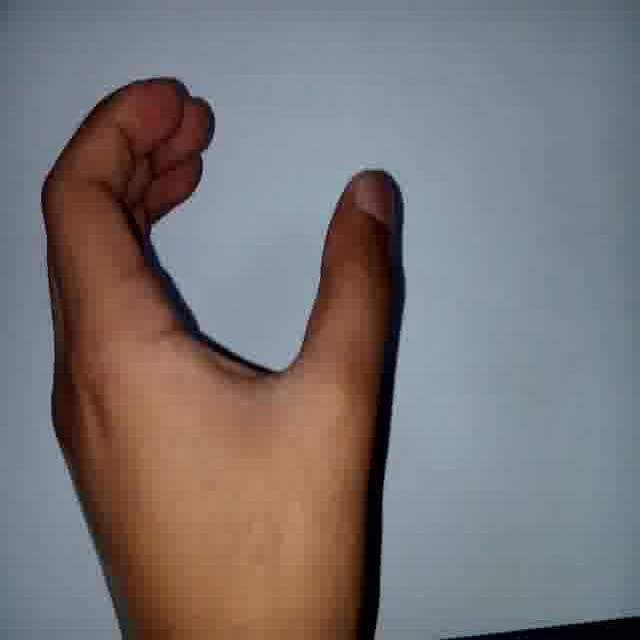Alphabet-C: (26, 54, 416, 614)
